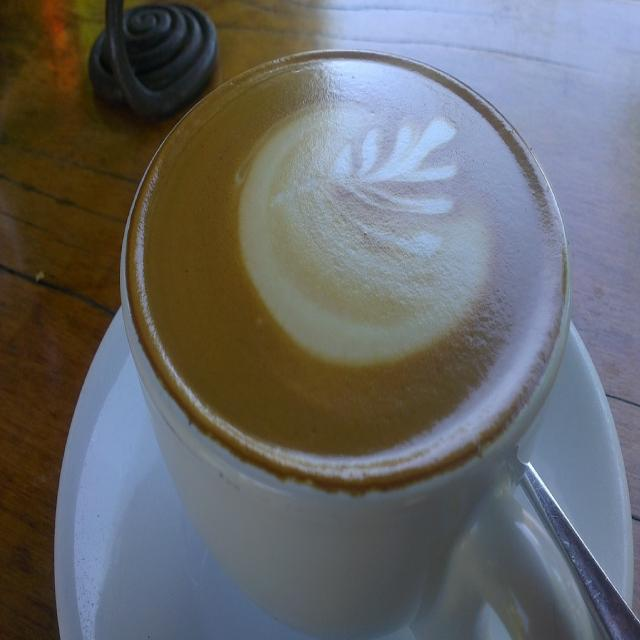Coffee: (118, 36, 597, 550)
